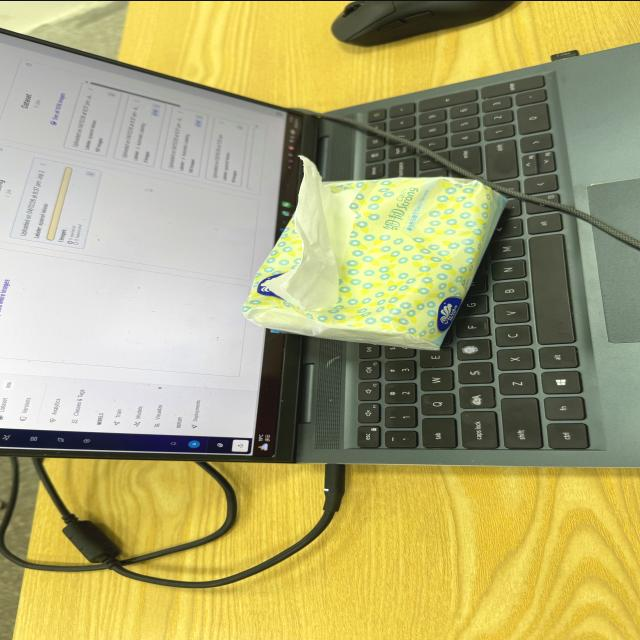tissue: (244, 157, 506, 348)
